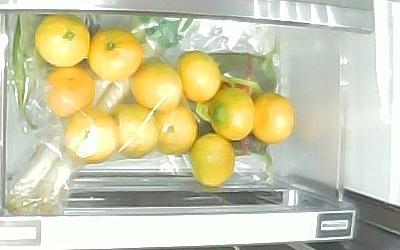tangerine: (35, 13, 89, 67), (88, 29, 143, 80), (207, 87, 256, 141), (189, 133, 235, 187), (177, 50, 222, 103), (250, 91, 295, 144)
tangerine_vinyl: (64, 109, 117, 163), (130, 60, 182, 111), (45, 66, 96, 117), (153, 104, 197, 157), (112, 104, 156, 156)
